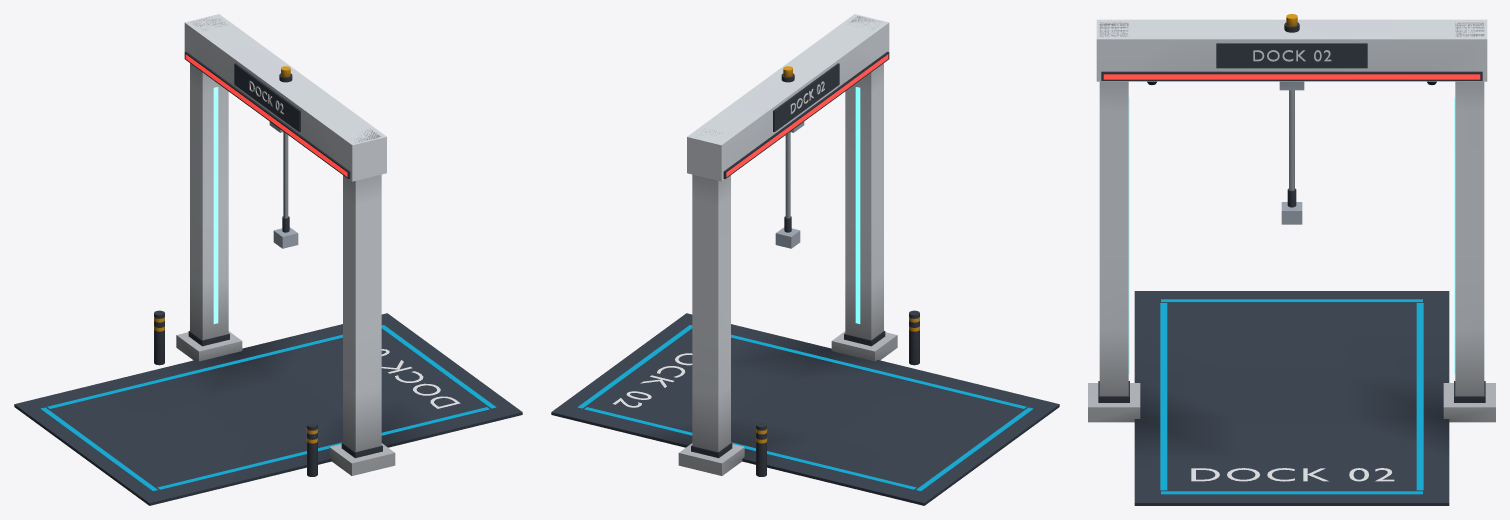
The model's file is continua_dock02.glb.
3 views of the same model, side by side, from view 1: azimuth 30°, elevation 25°; view 2: azimuth 150°, elevation 25°; view 3: azimuth 270°, elevation 25° (orthographic). The views are drawn at different scales.
Parts seen in each view (by area): view 1: PROP_DockStation_02; view 2: PROP_DockStation_02; view 3: PROP_DockStation_02.
Part boxes in pixels (<box>): PROP_DockStation_02: <box>14,14,522,505</box>; PROP_DockStation_02: <box>551,14,1059,505</box>; PROP_DockStation_02: <box>1088,14,1495,505</box>.
Bounding box in the file's own units: 8.6 × 7.45 × 7.
